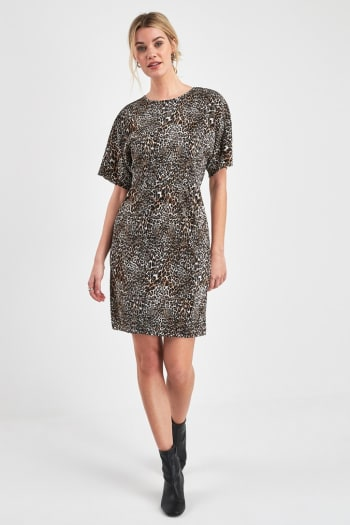C_dress: (106, 99, 232, 327)
